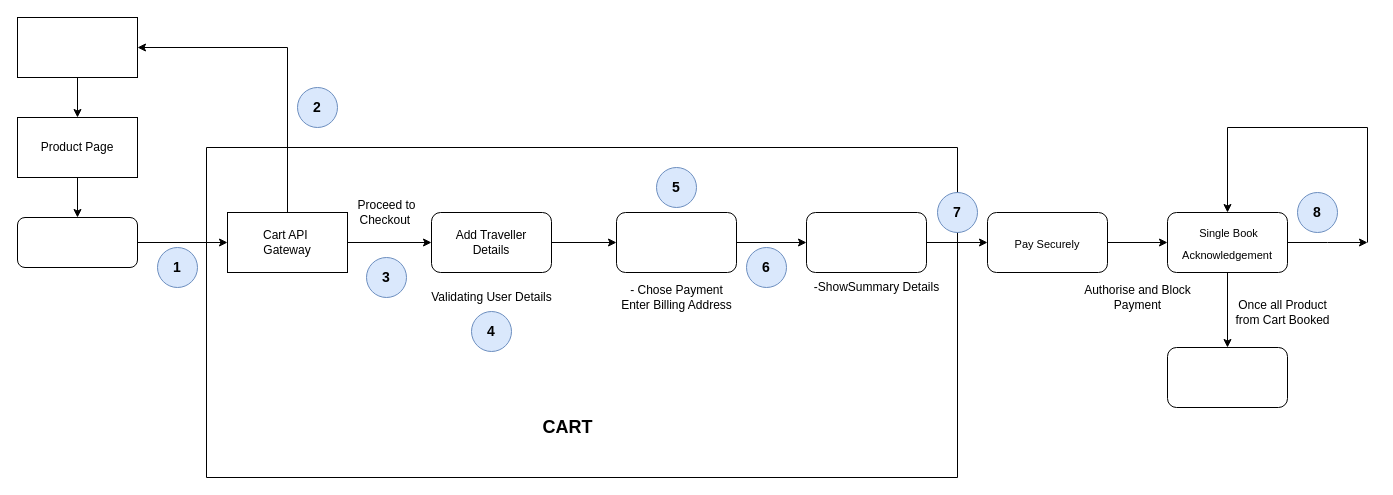
This 1393x495 diagram has some shape labels left out. Each missing label, with the centre of its shape:
Cart Events: pixel 77 242
Final Booking Confirmation: pixel 1227 377
Itinerary Flights/Hotels/Car Rentals: pixel 77 47
Review Order before Payment: pixel 866 242
Select Payment Method: pixel 676 242
